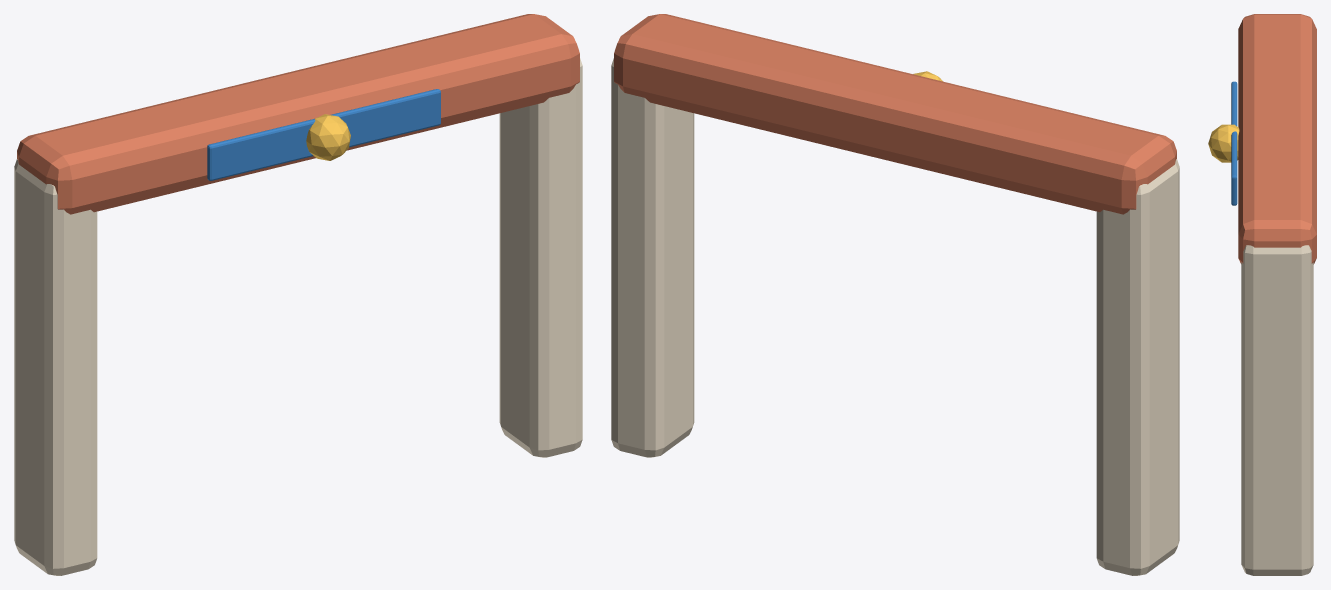
The model's file is CR_Archway.fbx.
3 renders of one model, left to right at view 1: azimuth 30°, elevation 25°; view 2: azimuth 150°, elevation 25°; view 3: azimuth 270°, elevation 25°, orthographic. The views are drawn at different scales.
Parts seen in each view (by area): view 1: Header_Terracotta, Pillar_Cream_L, Pillar_Cream_R, Sign_Cobalt, Badge_Gold; view 2: Header_Terracotta, Pillar_Cream_L, Pillar_Cream_R; view 3: Pillar_Cream_R, Header_Terracotta, Badge_Gold, Sign_Cobalt.
Boxes of the visible parts, bbox=[...] form: Header_Terracotta: bbox=[17, 14, 579, 214]; Pillar_Cream_L: bbox=[14, 159, 97, 575]; Pillar_Cream_R: bbox=[499, 58, 582, 457]; Sign_Cobalt: bbox=[207, 89, 440, 180]; Badge_Gold: bbox=[306, 114, 350, 160]; Header_Terracotta: bbox=[614, 14, 1176, 214]; Pillar_Cream_L: bbox=[1096, 159, 1179, 575]; Pillar_Cream_R: bbox=[611, 58, 694, 457]; Pillar_Cream_R: bbox=[1241, 245, 1313, 575]; Header_Terracotta: bbox=[1238, 14, 1316, 264]; Badge_Gold: bbox=[1208, 124, 1239, 162]; Sign_Cobalt: bbox=[1231, 81, 1237, 205].
Size of the model in its own units: 5.2 by 3.87 by 1.08.
